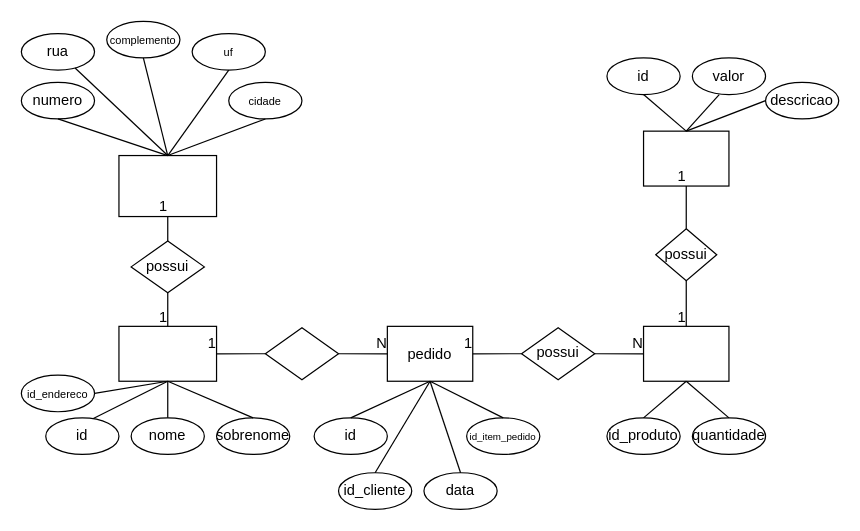
Image size: 860x531. Some labels were removed from this diagram. The box of each missing label's shape, as (x1, y1, x2, y2) in pixels:
cliente: (118, 325, 217, 381)
endereco: (118, 154, 217, 217)
faz: (264, 327, 339, 380)
item_pedido: (642, 325, 729, 381)
produto: (642, 130, 729, 186)
